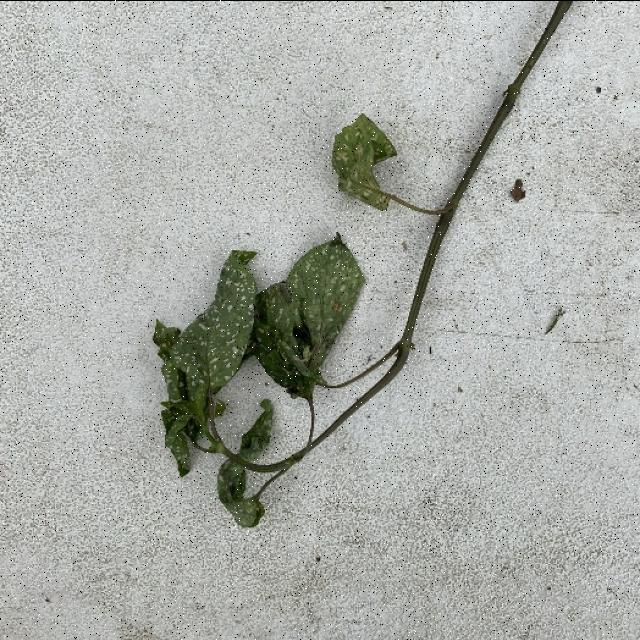organik: (168, 0, 576, 522)
